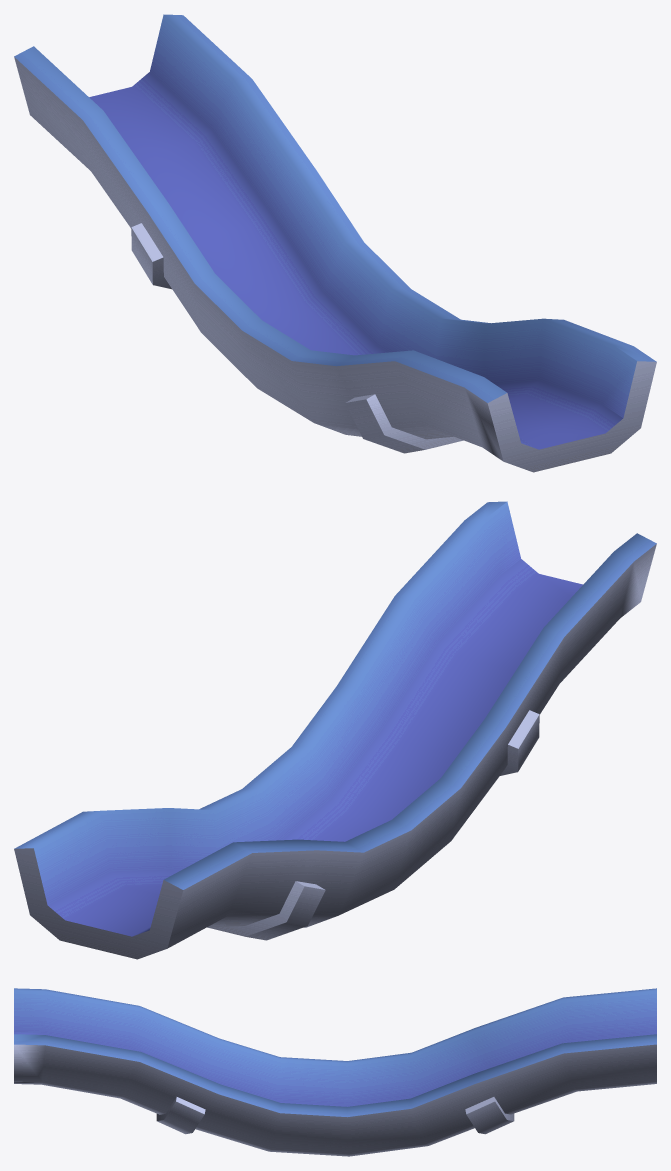
Rendered from coaster-flume-straight-bump-down.glb.
3 renders of one model, top to bottom at view 1: azimuth 30°, elevation 25°; view 2: azimuth 150°, elevation 25°; view 3: azimuth 270°, elevation 25°, orthographic. The views are drawn at different scales.
Visible parts, largest first — view 1: coaster-flume-straight-bump-down; view 2: coaster-flume-straight-bump-down; view 3: coaster-flume-straight-bump-down.
Boxes of the visible parts, x1,y1,x2,y2 form: coaster-flume-straight-bump-down: (14, 14, 656, 472); coaster-flume-straight-bump-down: (14, 501, 656, 959); coaster-flume-straight-bump-down: (14, 988, 656, 1156).
Bounding box in the file's own units: 2.53 × 2.7 × 12.
1 material, 1 textured.
